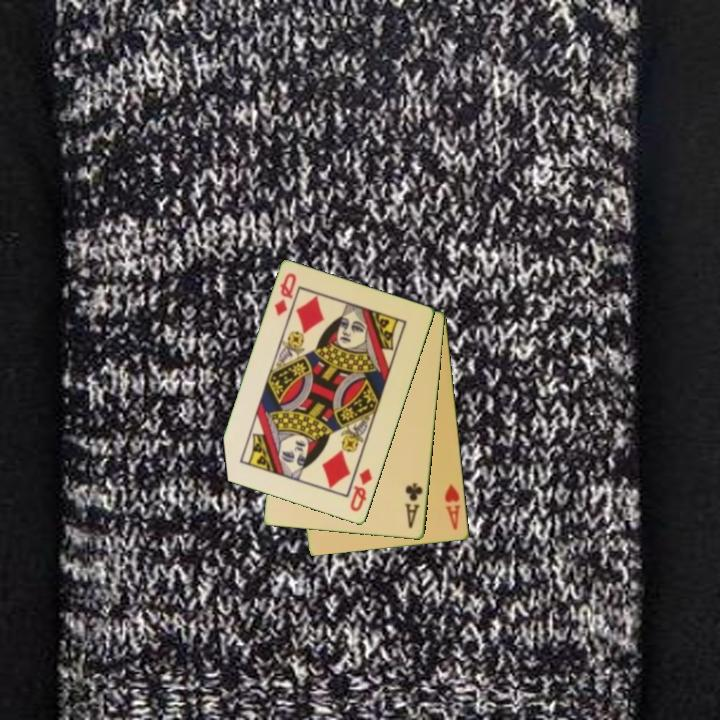Ac: (402, 479, 426, 531)
Ah: (442, 481, 463, 533)
Qd: (347, 465, 375, 515), (271, 270, 299, 319)
